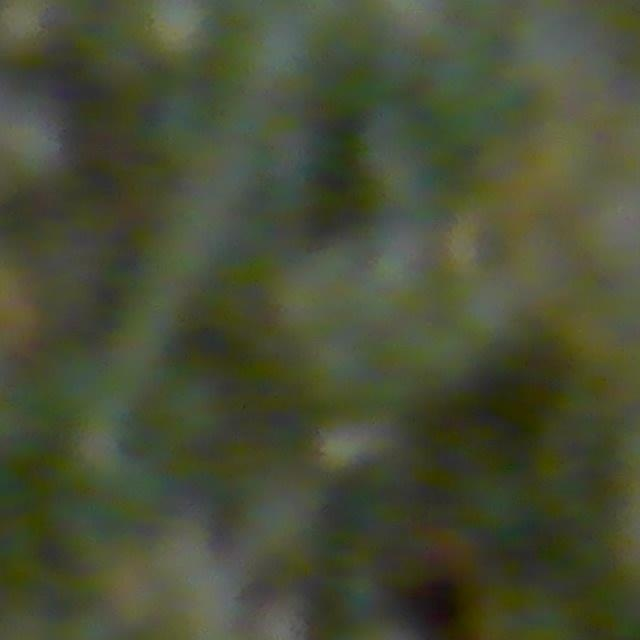SeaGrape: (229, 10, 322, 100), (136, 0, 223, 66)
